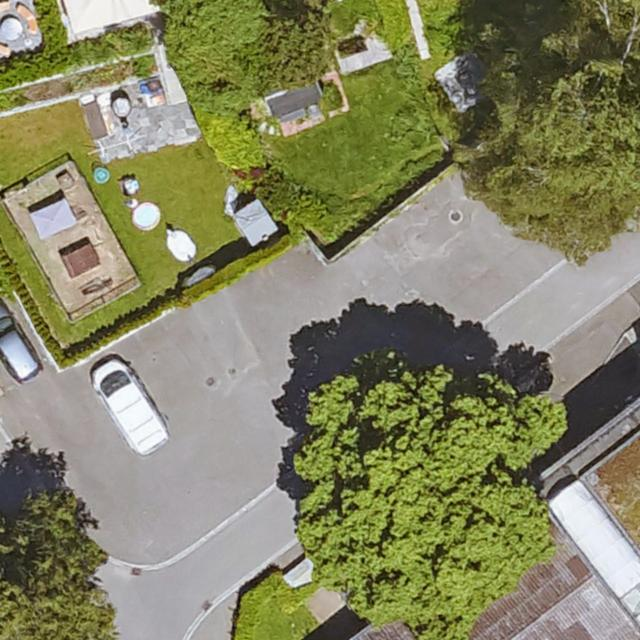tree: (292, 363, 566, 640), (467, 0, 640, 260), (0, 500, 115, 640), (263, 14, 332, 85)
